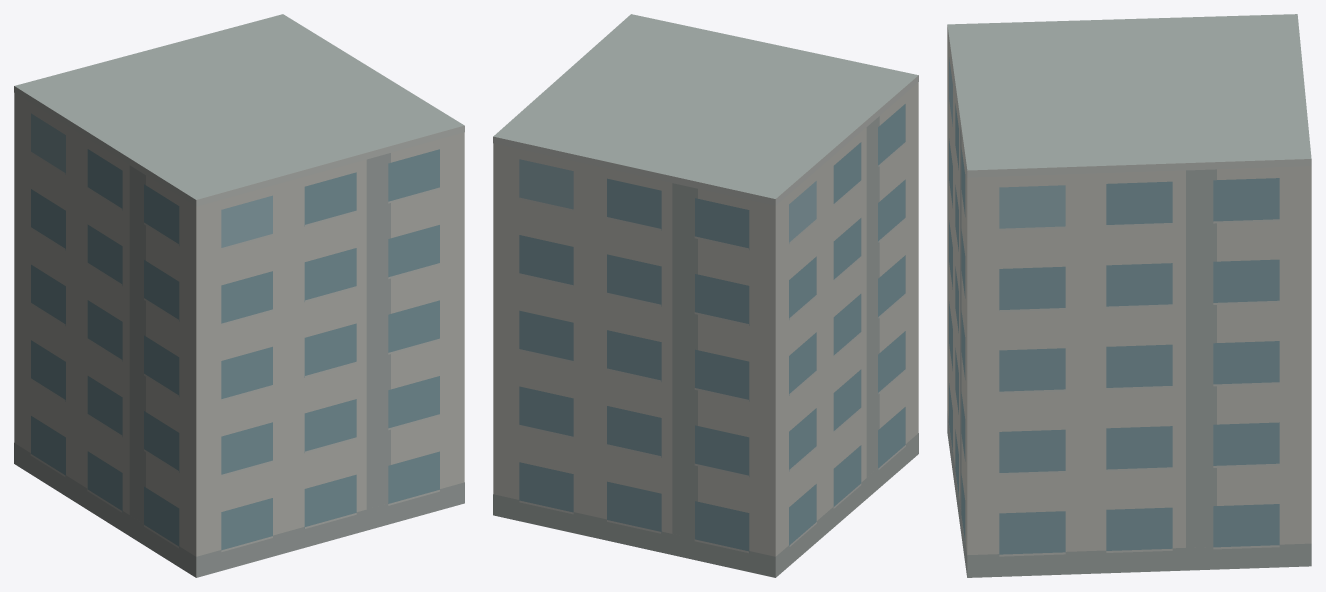
File: survey-upis-32812829.glb
3 views of the same model, side by side, from view 1: azimuth 30°, elevation 25°; view 2: azimuth 150°, elevation 25°; view 3: azimuth 270°, elevation 25° (orthographic). The views are drawn at different scales.
Visible parts, largest first — view 1: survey-upis-32812829.tmp; view 2: survey-upis-32812829.tmp; view 3: survey-upis-32812829.tmp.
Part boxes in pixels (x1,y1,x2,y2): survey-upis-32812829.tmp: (14,14,464,577); survey-upis-32812829.tmp: (493,14,918,577); survey-upis-32812829.tmp: (947,14,1311,577).
Bounding box in the file's own units: 11.13 × 13.5 × 10.95.
